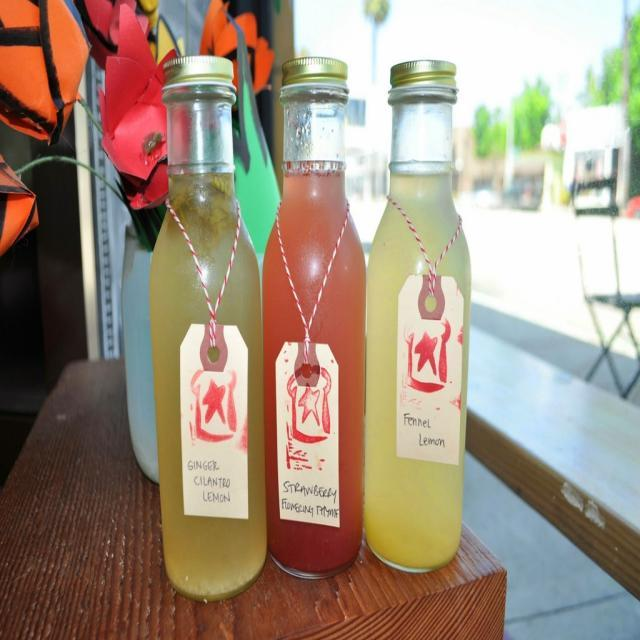Juice: (268, 54, 364, 592), (149, 158, 259, 610), (366, 160, 472, 580)
